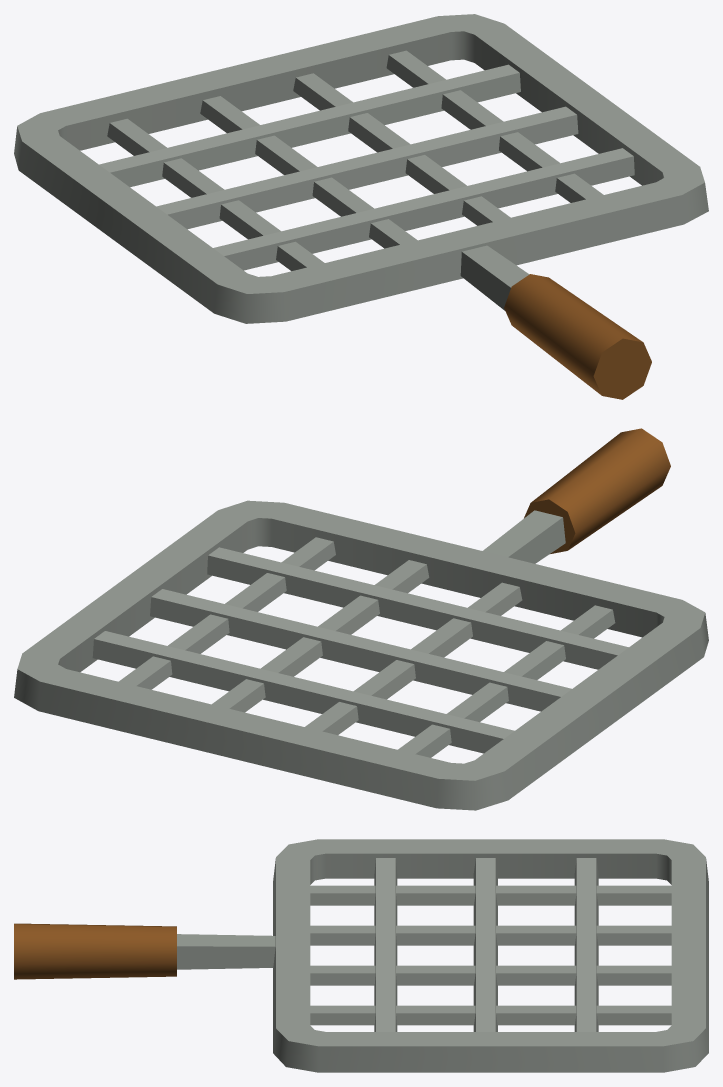
Rendered from SM_GrillBasket.fbx.
3 renders of one model, top to bottom at view 1: azimuth 30°, elevation 25°; view 2: azimuth 150°, elevation 25°; view 3: azimuth 270°, elevation 25°, orthographic. The views are drawn at different scales.
Parts seen in each view (by area): view 1: SM_GrillBasket; view 2: SM_GrillBasket; view 3: SM_GrillBasket.
Part boxes in pixels (box(x1,y1,x2,y2)): SM_GrillBasket: box(14, 14, 708, 399); SM_GrillBasket: box(14, 428, 708, 810); SM_GrillBasket: box(14, 839, 708, 1072).
Size of the model in its own units: 40.52 by 4.86 by 56.62.
